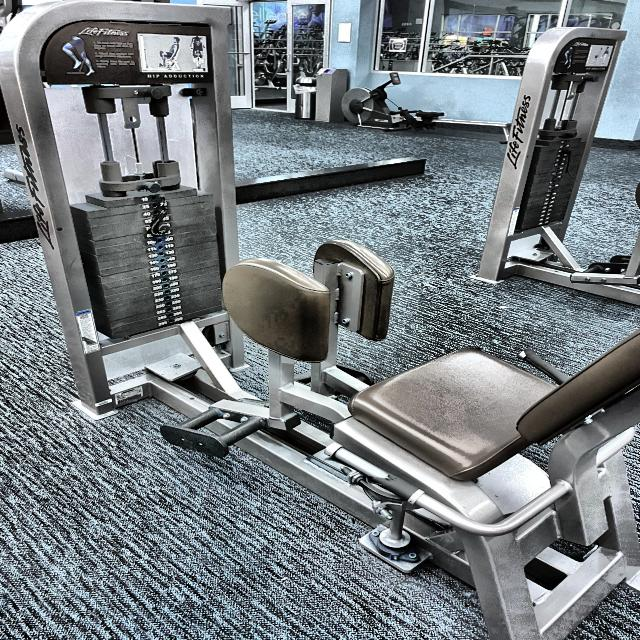hip_adduction_machine: (226, 200, 640, 636), (226, 207, 427, 478), (65, 33, 214, 84), (145, 72, 210, 82)
